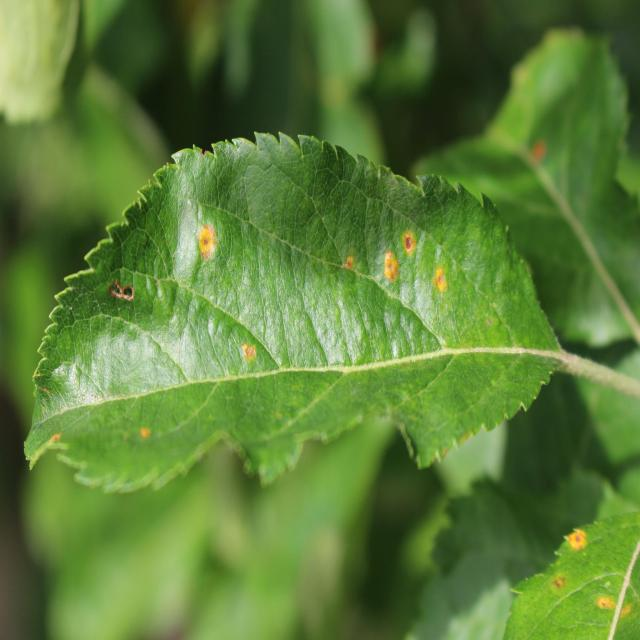Rust: (192, 212, 224, 268), (587, 589, 636, 625), (558, 515, 590, 568), (381, 237, 402, 300), (230, 330, 260, 369), (136, 407, 157, 449), (429, 264, 453, 298), (401, 226, 421, 263), (342, 238, 358, 284), (47, 423, 69, 450)
